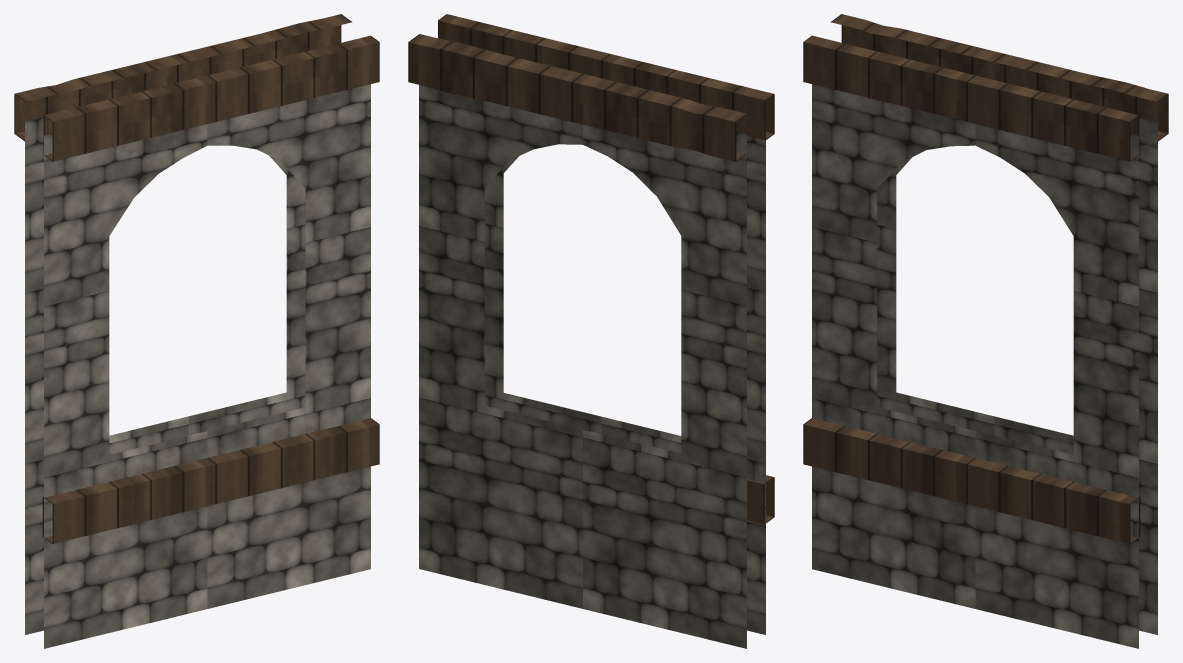
The model's file is Wall_DryStone_Window_Wide_Round_LOD1.gltf.
3 views of the same model, side by side, from view 1: azimuth 30°, elevation 25°; view 2: azimuth 150°, elevation 25°; view 3: azimuth 330°, elevation 25° (orthographic).
Visible parts, largest first — view 1: Wall_DryStone_Window_Wide_Round_LOD1; view 2: Wall_DryStone_Window_Wide_Round_LOD1; view 3: Wall_DryStone_Window_Wide_Round_LOD1.
Boxes of the visible parts, x1,y1,x2,y2 form: Wall_DryStone_Window_Wide_Round_LOD1: (14,14,379,648); Wall_DryStone_Window_Wide_Round_LOD1: (408,14,774,648); Wall_DryStone_Window_Wide_Round_LOD1: (803,14,1168,648).
Size of the model in its own units: 2 by 3.12 by 0.406.
Materials: 2 (2 with a texture image).
